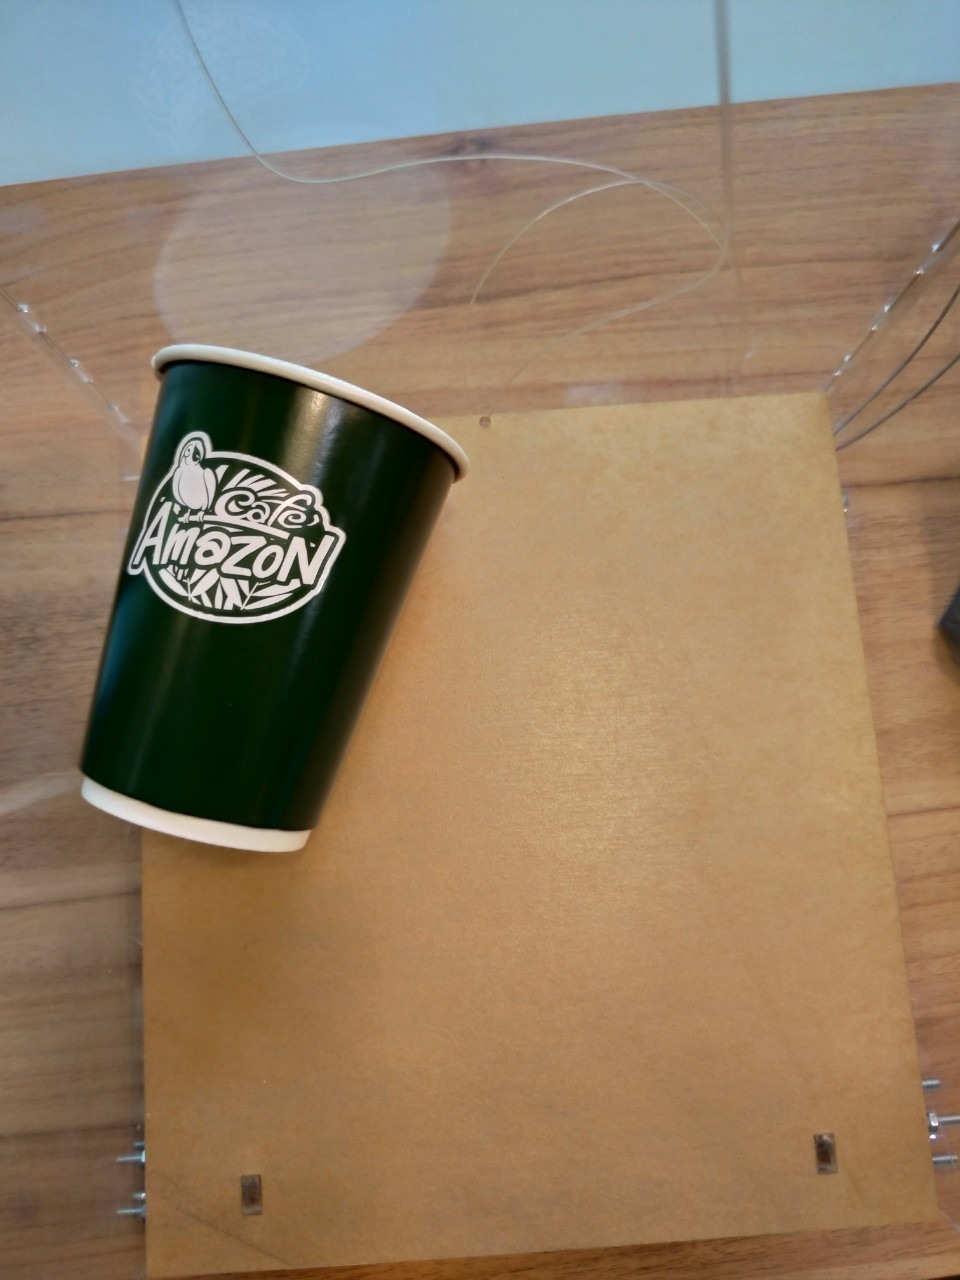PaperCup: (81, 345, 469, 857)
